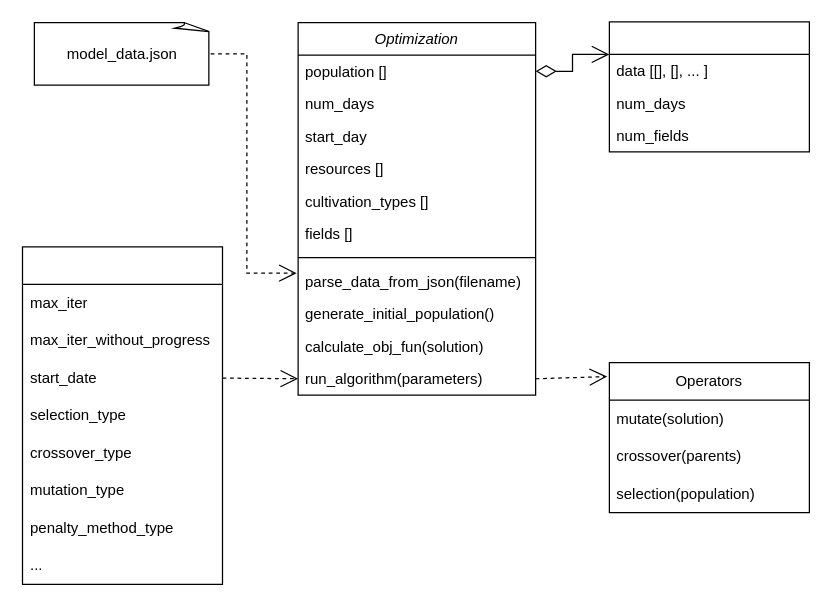
Image size: 831x606. Some labels were removed from this diagram. The shapes that lost their labels are listed below. From the top down, each one's box as (x1, y1, x2, y2) in pixels, then its label:
(608, 21, 809, 152): Solution
(21, 246, 222, 584): Parameters
